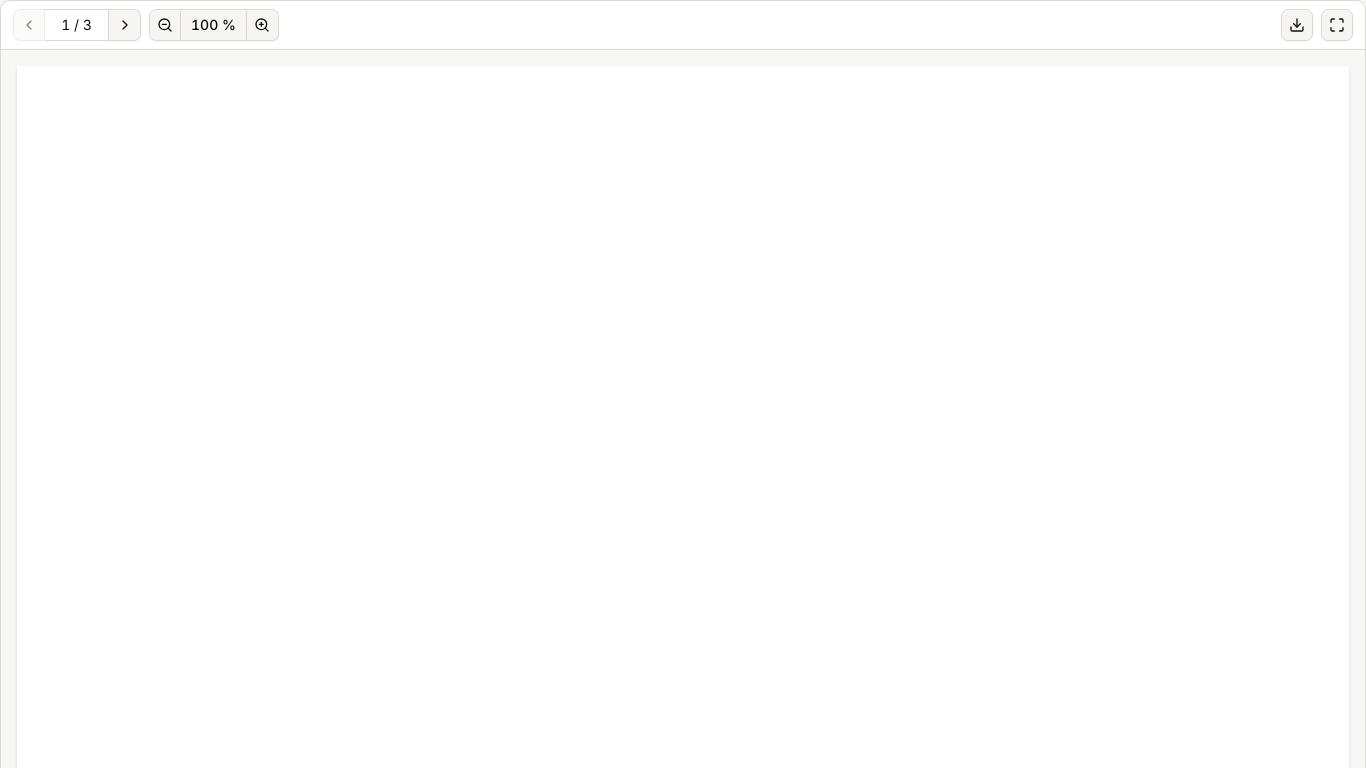
Test: PdfViewerCore › keeps previous/next within the page bounds
Check: the text "1 / 3" is shown, box [61,15,92,35]
Check: the button named "Previous page" is disabled, box [13,9,45,41]
Click the button named "Next page" at (125, 25), box [109,9,141,41]
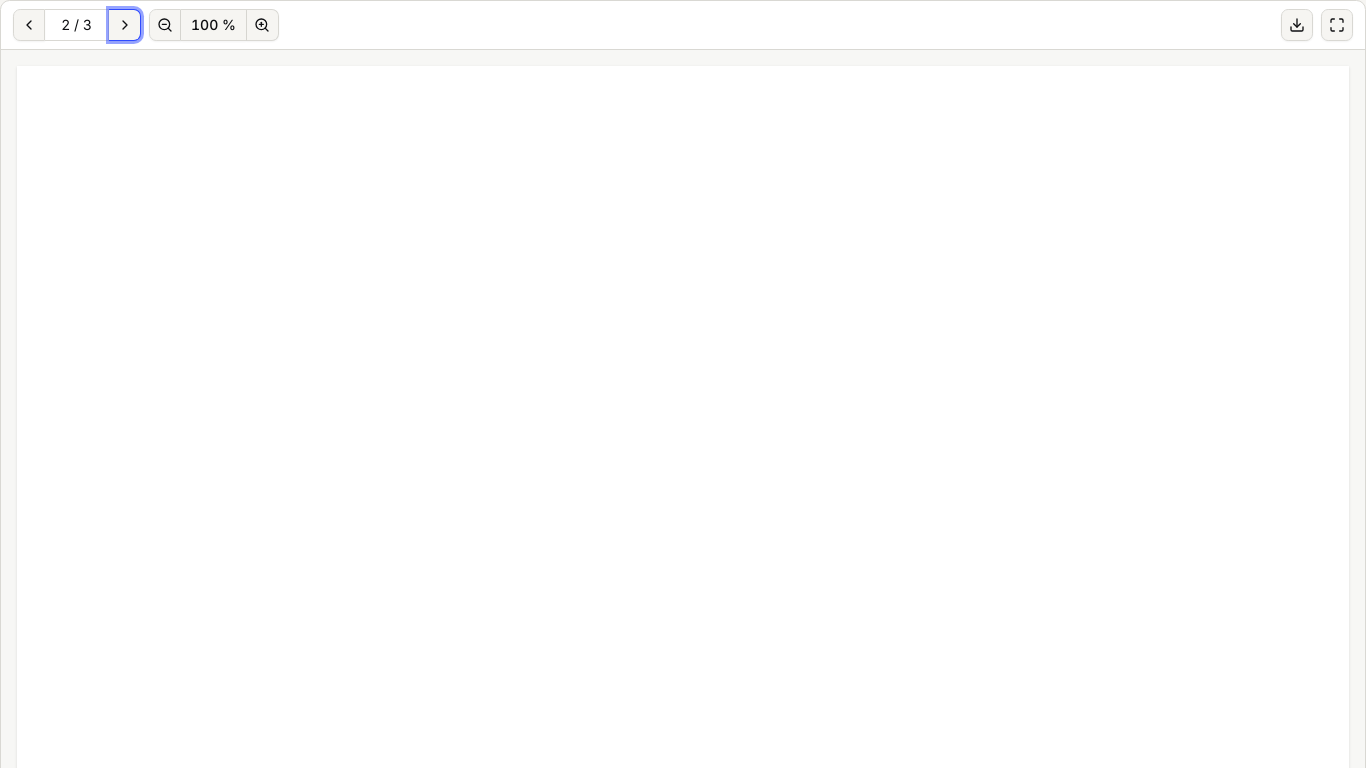
Check: the text "2 / 3" is shown, box [61,15,92,35]
Click the button named "Next page" at (125, 25), box [109,9,141,41]
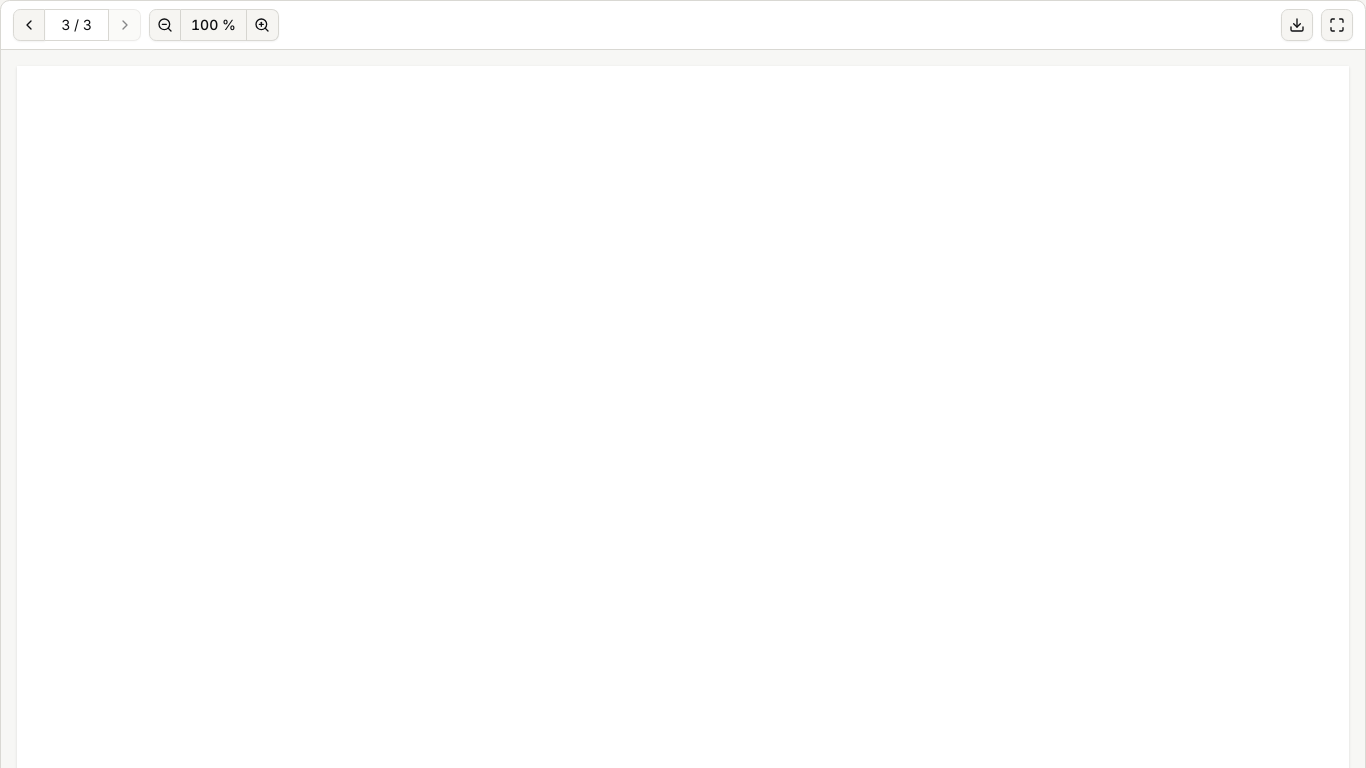
Check: the text "3 / 3" is shown, box [61,15,92,35]
Check: the button named "Next page" is disabled, box [109,9,141,41]
Click the button named "Previous page" at (29, 25), box [13,9,45,41]
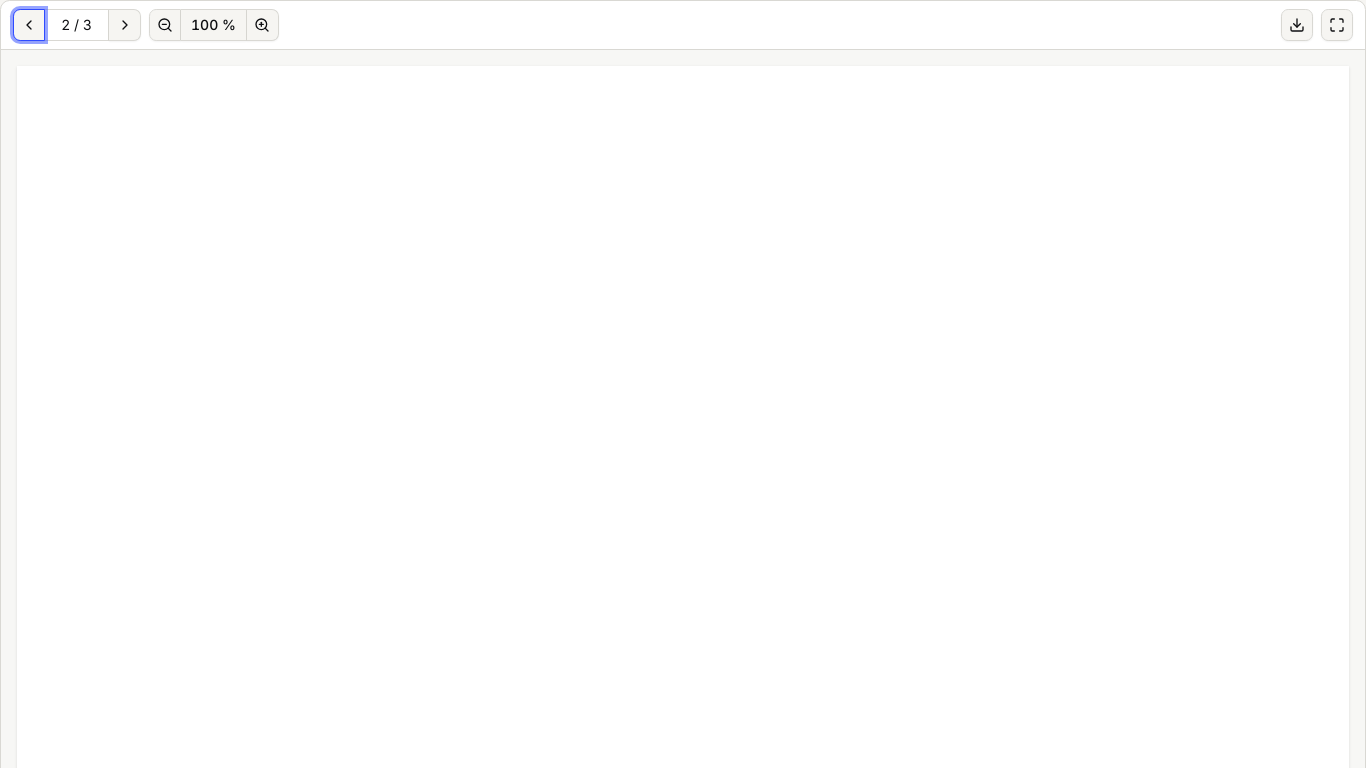
Check: the text "2 / 3" is shown, box [61,15,92,35]
